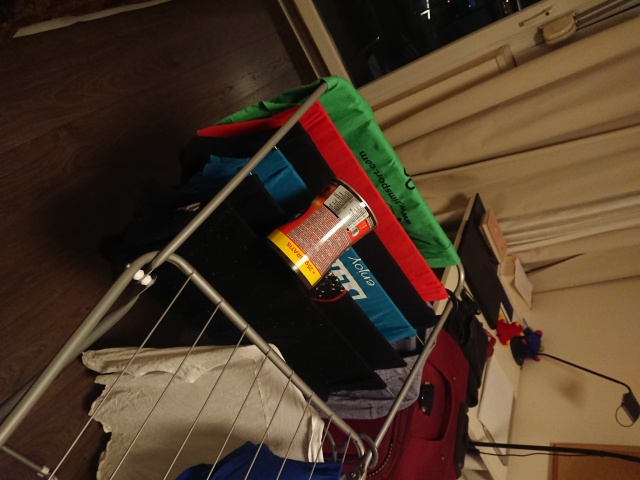Nescafe Classic 225g: (259, 175, 381, 295)
